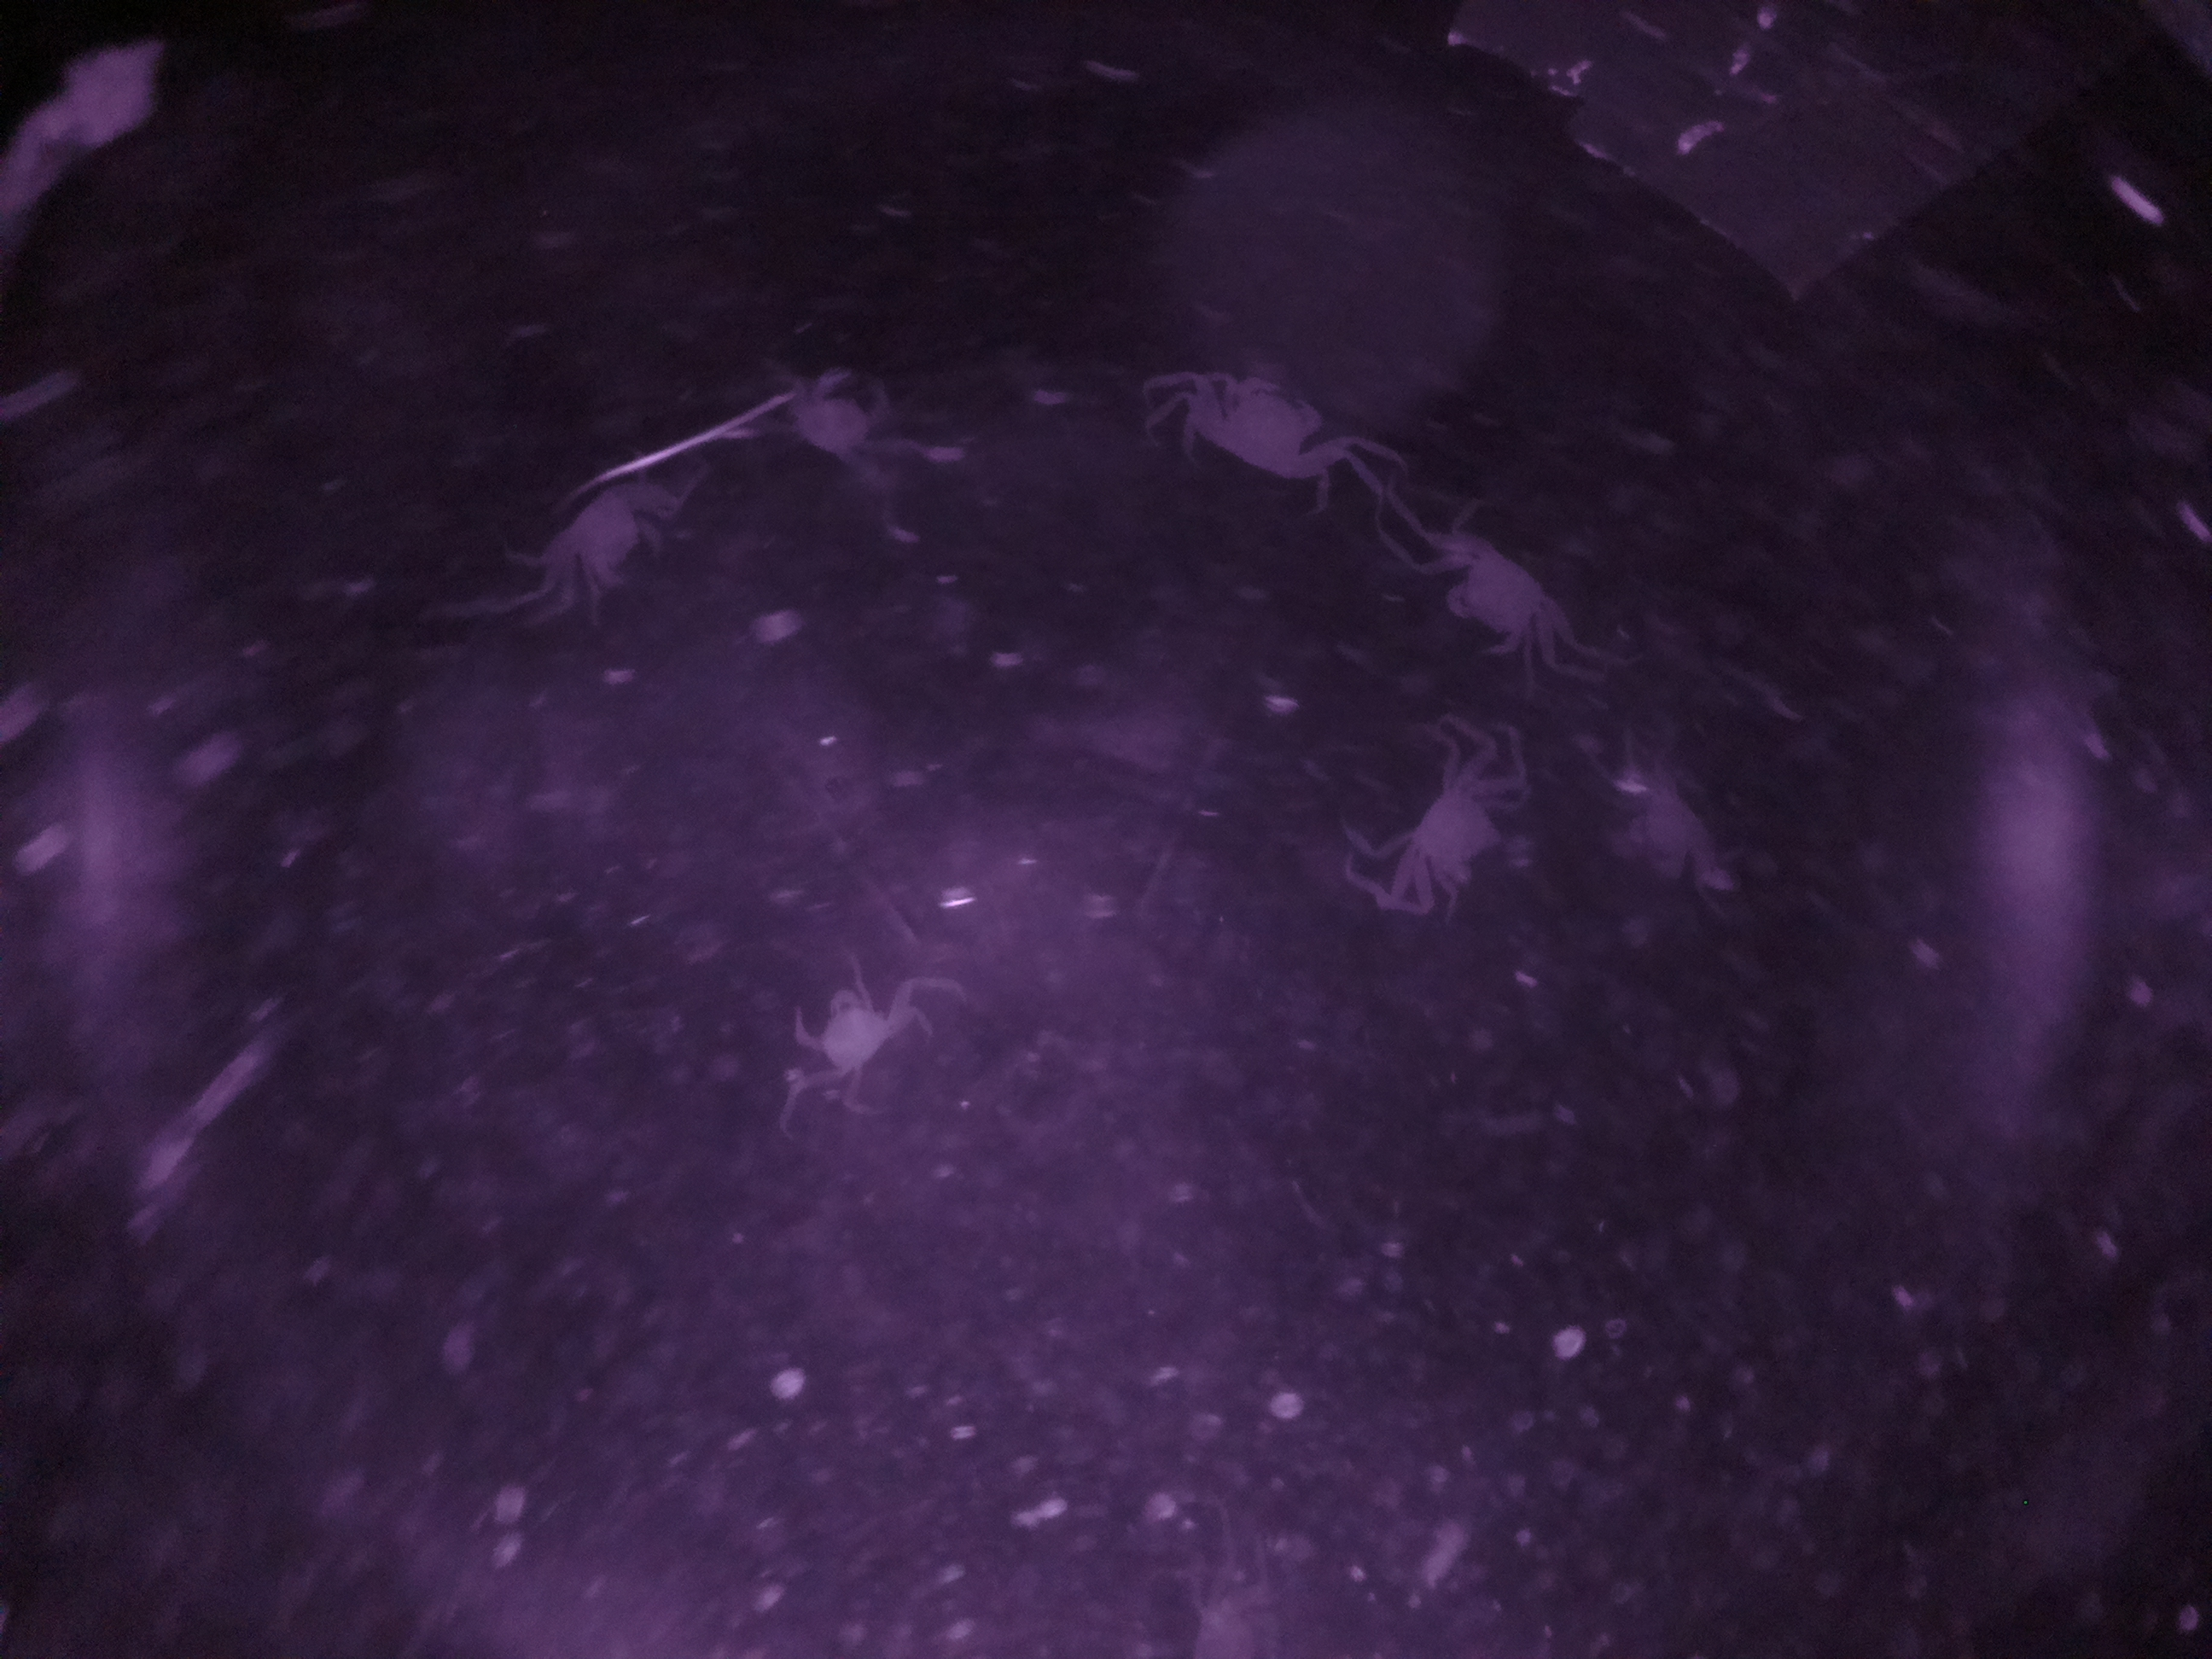Crab: (1411, 523, 1588, 678), (1181, 357, 1374, 495), (1374, 753, 1526, 911)
